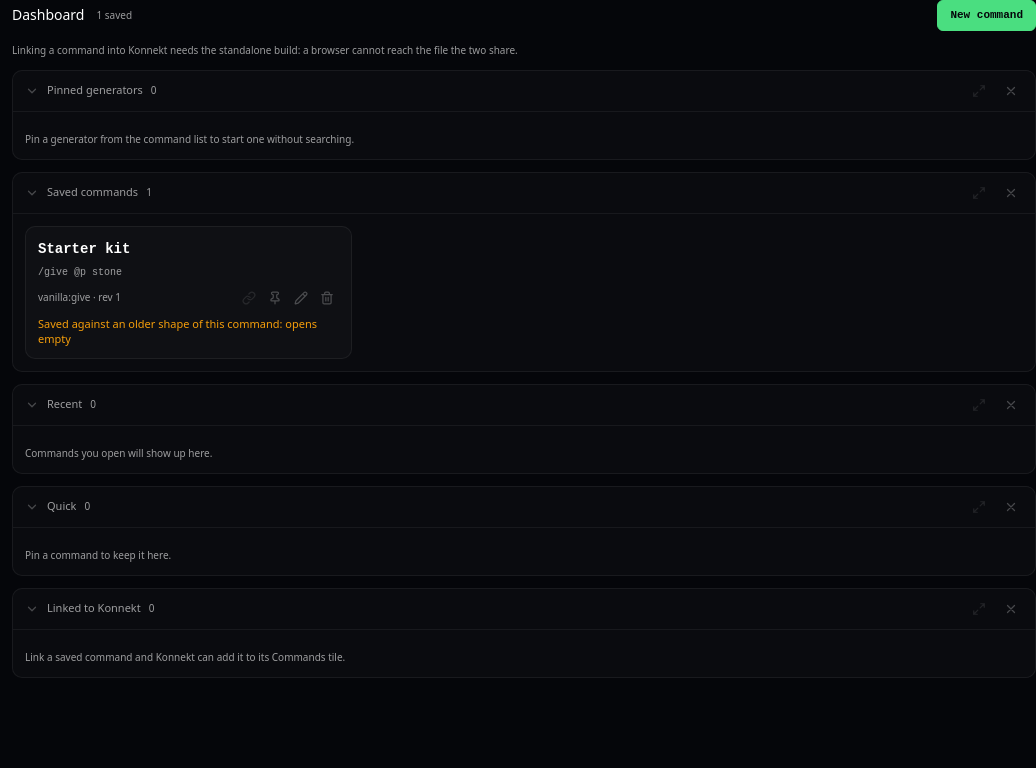
Test: a panel closes, stays closed, and says which it is
Step 1. Click the button "Saved commands" → [82, 193], box [25, 184, 138, 201]
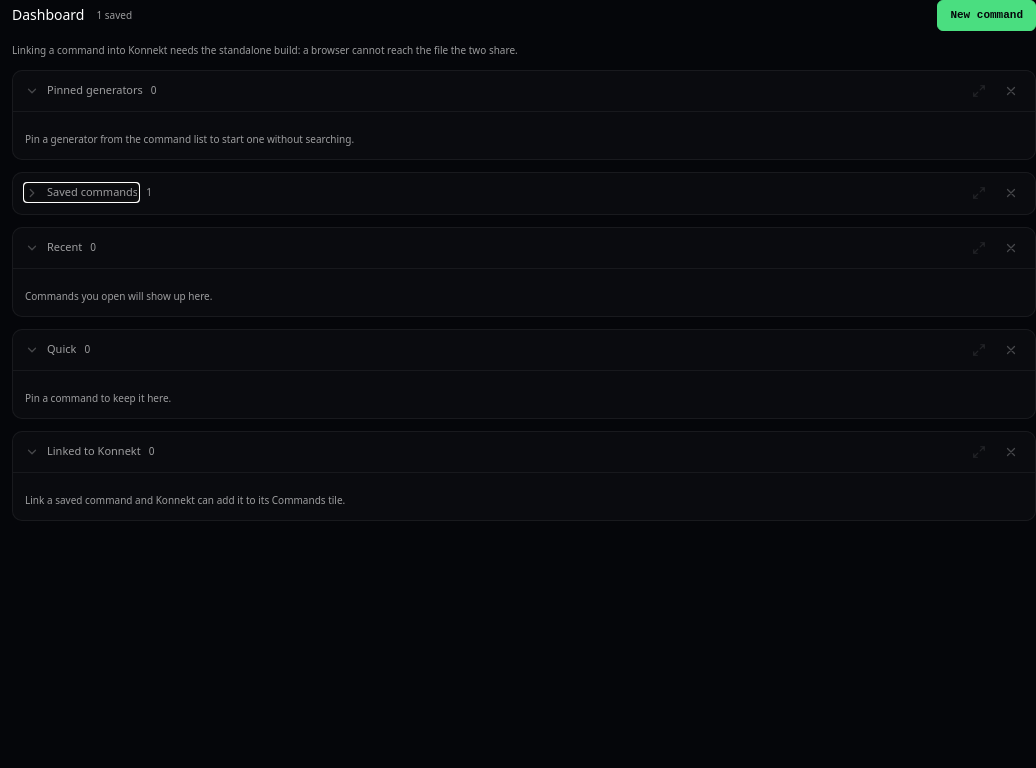
Result: the button "Saved commands" is collapsed at [25, 184, 138, 201]
